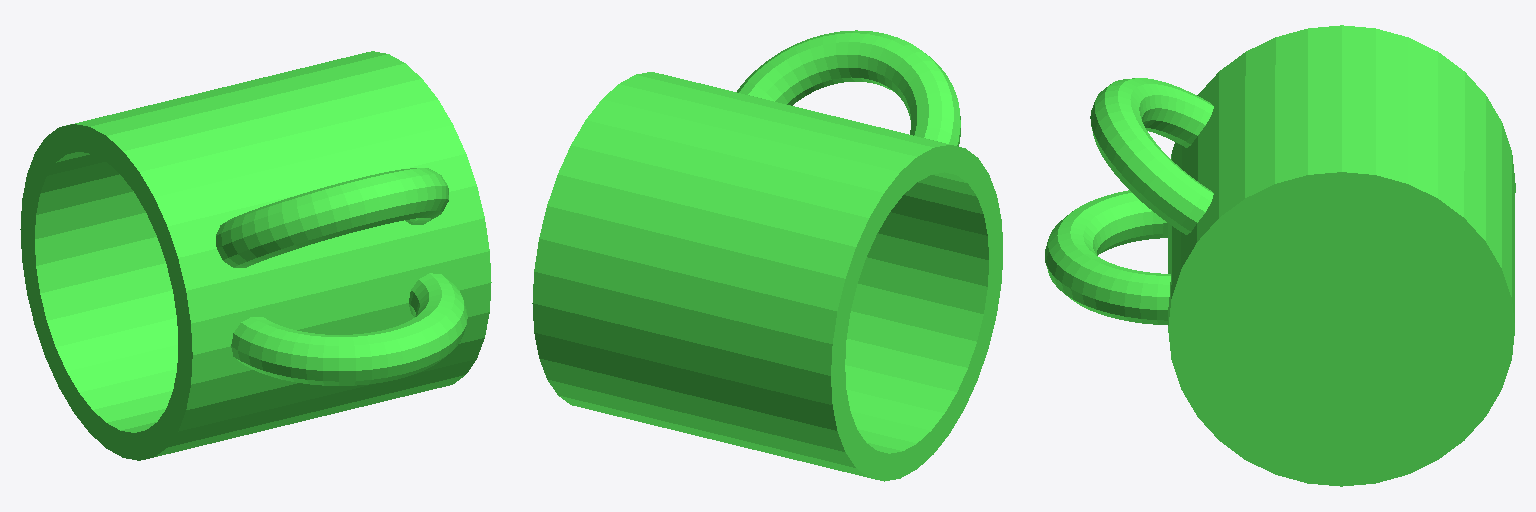
URDF robot description (mug_dbl.urdf):
<?xml version="1.0" ?>
<robot name="mug_dbl.urdf">
  <link name="baseLink">
    <inertial>
      <origin rpy="0 0 0" xyz="0 0 0"/>
       <mass value=".0"/>
       <inertia ixx="0" ixy="0" ixz="0" iyy="0" iyz="0" izz="0"/>
    </inertial>
    <visual>
      <origin rpy="0 0 1.57" xyz="0 0 0"/>
      <geometry>
				<mesh filename="package://meshes/mug_dbl_small.obj" scale="1 1 1"/>
      </geometry>
       <material name="green">
        <color rgba="0.4 1 0.4 1"/>
      </material>
    </visual>
    <collision>
      <origin rpy="0 0 0" xyz="0 0 0"/>
     <geometry>
				<mesh filename="package://meshes/mug_dbl_small_filled.obj" scale="1 1 1"/>
      </geometry>
    </collision>
  </link>
</robot>

--- What the picture shows (computed from the rendered views, not written in the file) ---
The picture shows the robot from 3 angles, left to right: view 1: azimuth 30°, elevation 25°; view 2: azimuth 150°, elevation 25°; view 3: azimuth 270°, elevation 25°; orthographic projection.
Model mug_dbl.urdf with 1 links and 0 joints (none), rooted at baseLink, posed every joint at zero.
Links seen in each view (by area): view 1: baseLink; view 2: baseLink; view 3: baseLink.
Link boxes in pixels (left/top/right/bottom): baseLink: left=20, top=51, right=491, bottom=460; baseLink: left=532, top=30, right=1002, bottom=481; baseLink: left=1045, top=25, right=1515, bottom=486.
Size in the robot's own frame: 0.1842 by 0.2498 by 0.1857 metres.
Meshes: 1 distinct files referenced, 1 mesh visuals loaded (1 OBJ).